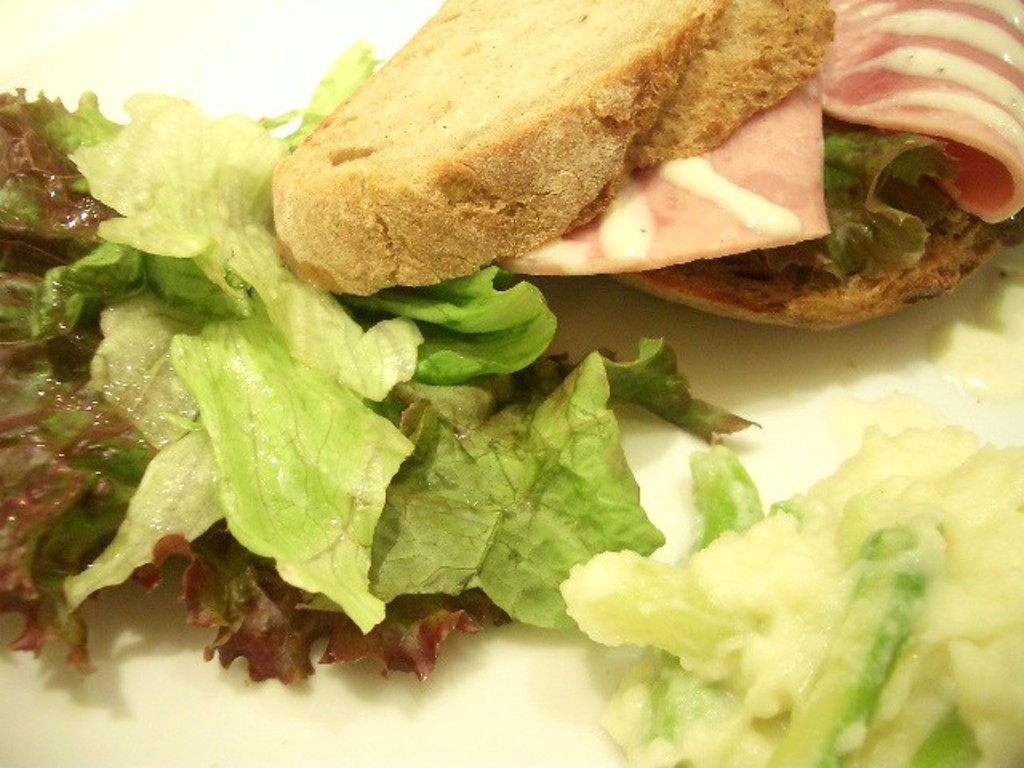sandwich: (269, 0, 1022, 336)
